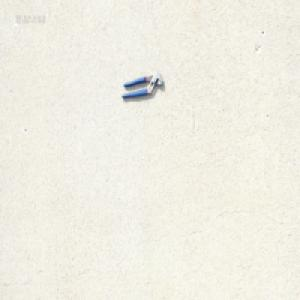Pliers: (121, 71, 164, 100)
